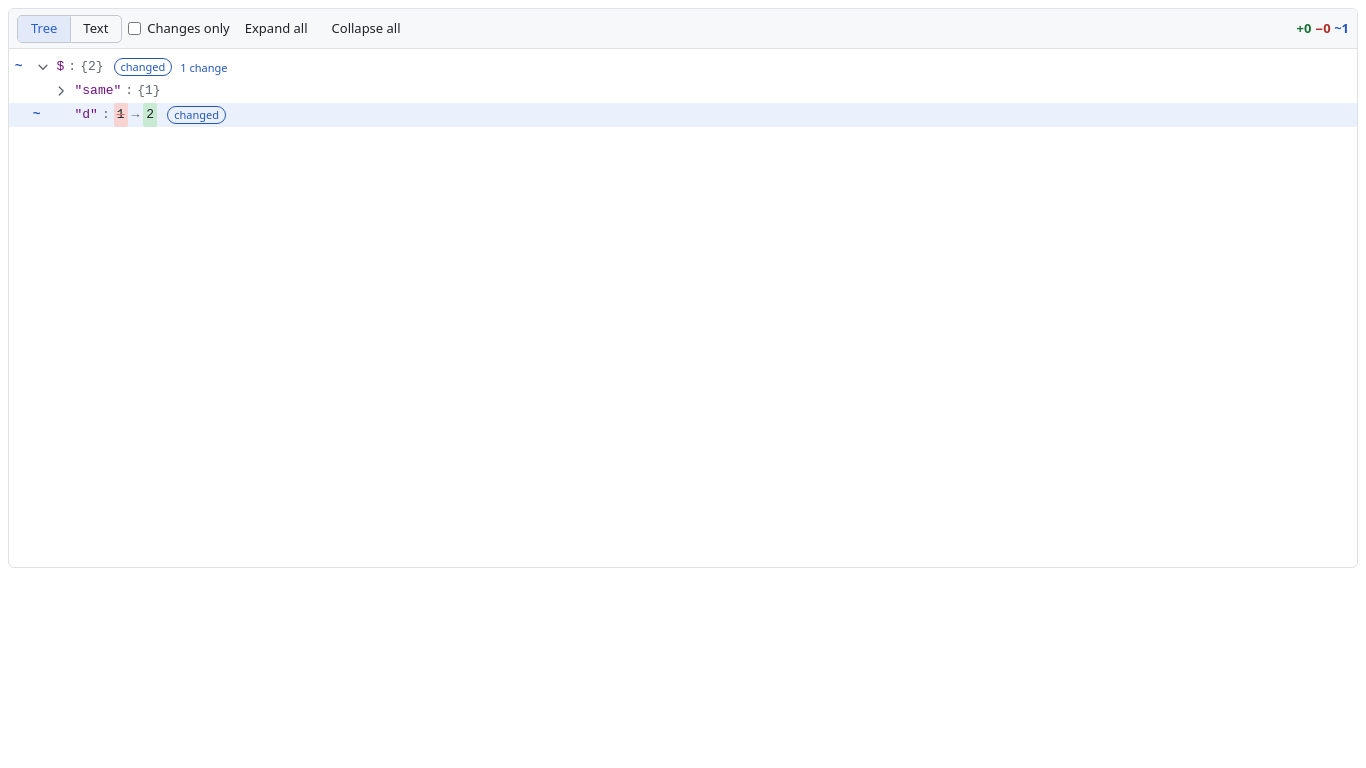
Scenario: <JsonDiffViewer> › collapses unchanged branches by default and toggles them
Click the button named "Expand $.same" at (60, 91), box [50,81,70,101]
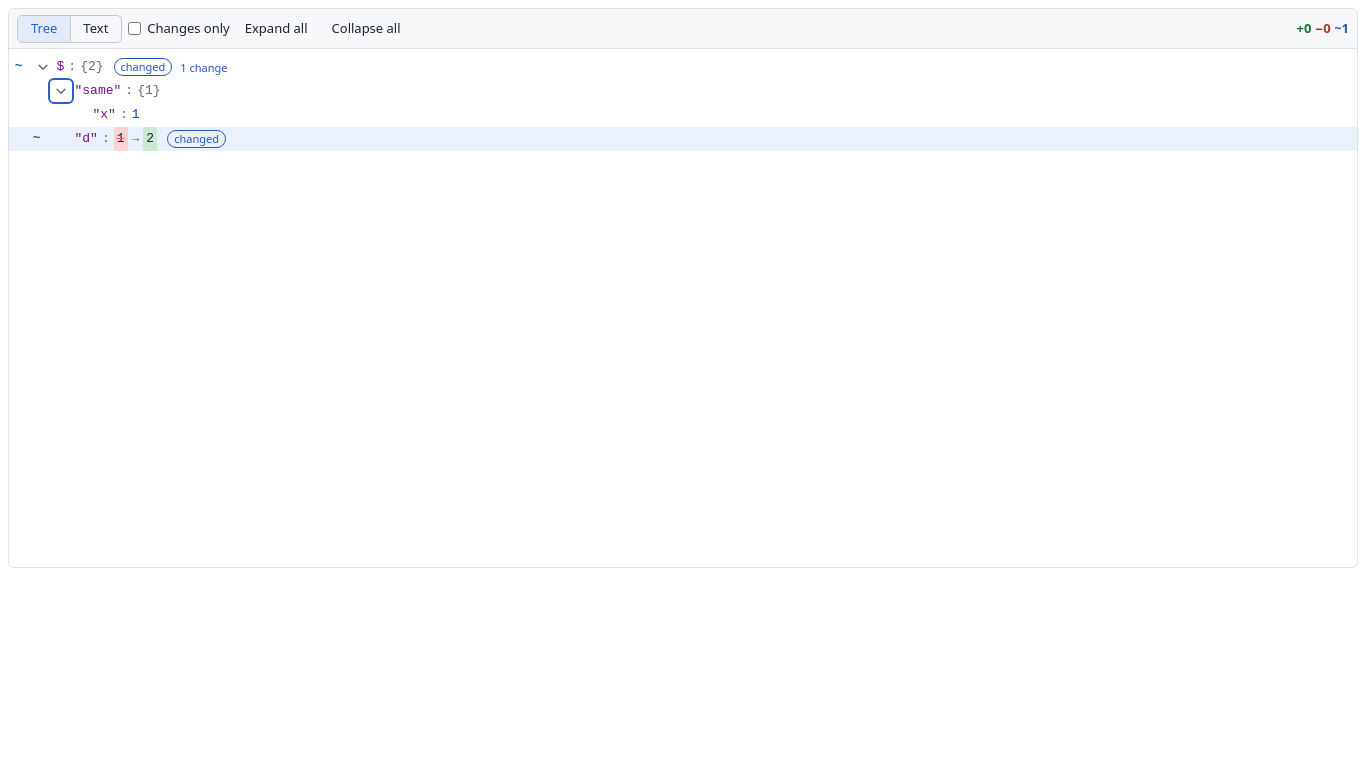
Expected: the list item "\"x\" : 1" is shown, [92,107,140,122]
